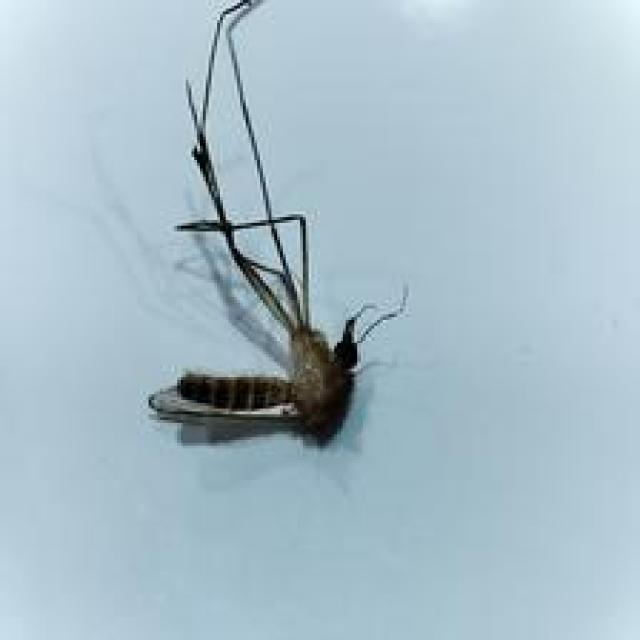Culex: (146, 0, 408, 443)
